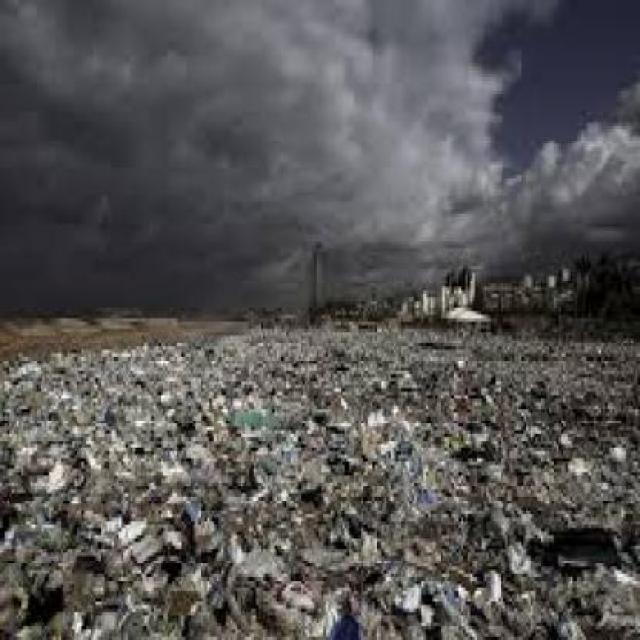garbage: (3, 354, 638, 637), (91, 286, 634, 447)
